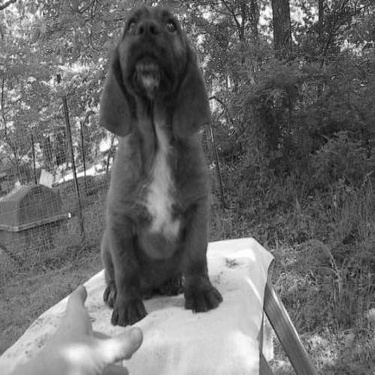dog: (95, 2, 225, 326), (1, 279, 147, 372)
